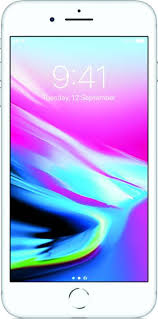iphone: (1, 1, 158, 319)
iphone8: (1, 1, 158, 319)
